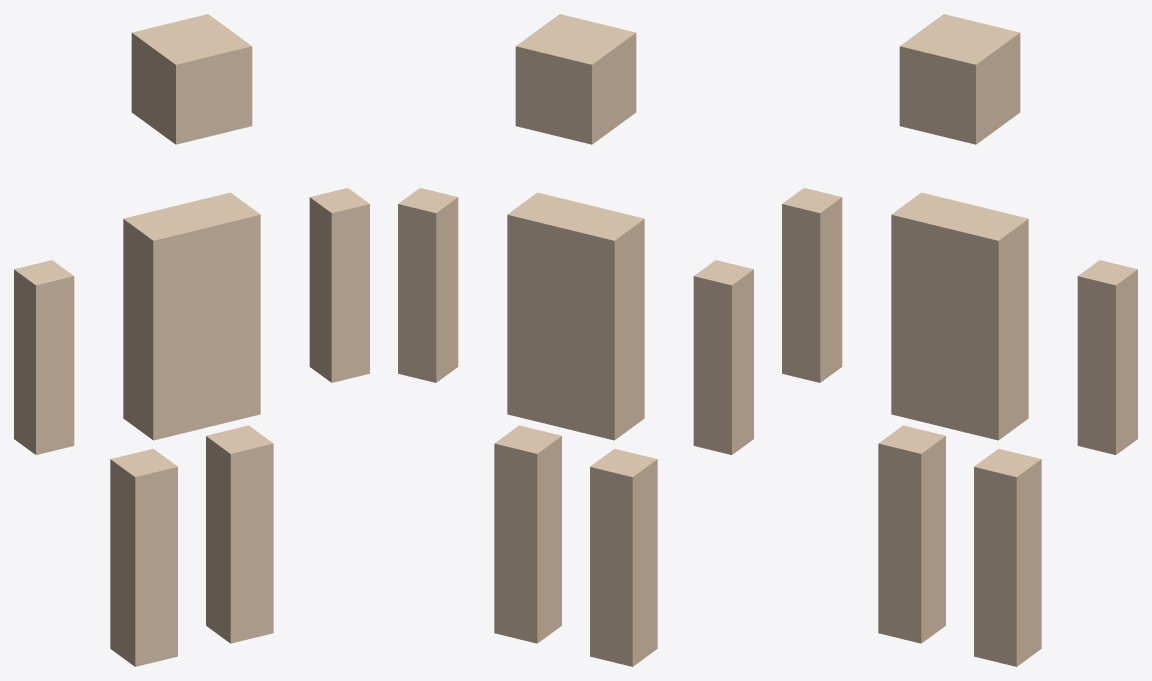
File: sample-body.glb
3 views of the same model, side by side, from view 1: azimuth 30°, elevation 25°; view 2: azimuth 150°, elevation 25°; view 3: azimuth 330°, elevation 25° (orthographic).
Parts seen in each view (by area): view 1: Torso, Right Leg, Left Leg, Head, Right Arm, Left Arm; view 2: Torso, Right Leg, Left Leg, Head, Right Arm, Left Arm; view 3: Torso, Left Leg, Right Leg, Head, Left Arm, Right Arm.
Part boxes in pixels (x1,y1,x2,y2): Torso: (123, 192, 260, 440); Right Leg: (206, 425, 273, 643); Left Leg: (110, 448, 177, 666); Head: (131, 14, 252, 144); Right Arm: (309, 188, 369, 382); Left Arm: (14, 260, 74, 454); Torso: (507, 192, 644, 440); Right Leg: (494, 425, 561, 643); Left Leg: (590, 448, 657, 666); Head: (515, 14, 636, 144); Right Arm: (398, 188, 458, 382); Left Arm: (693, 260, 753, 454); Torso: (891, 192, 1028, 440); Left Leg: (878, 425, 945, 643); Right Leg: (974, 448, 1041, 666); Head: (899, 14, 1020, 144); Left Arm: (782, 188, 842, 382); Right Arm: (1077, 260, 1137, 454).
Size of the model in its own units: 1.4 by 2.41 by 0.32.
